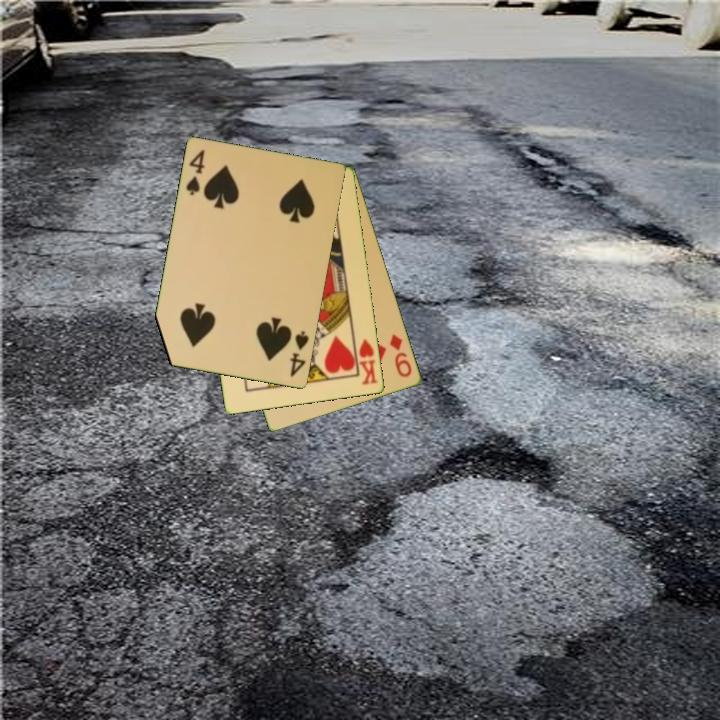4s: (287, 328, 312, 380), (183, 147, 208, 198)
9d: (386, 331, 415, 381)
Kh: (351, 333, 381, 388)
